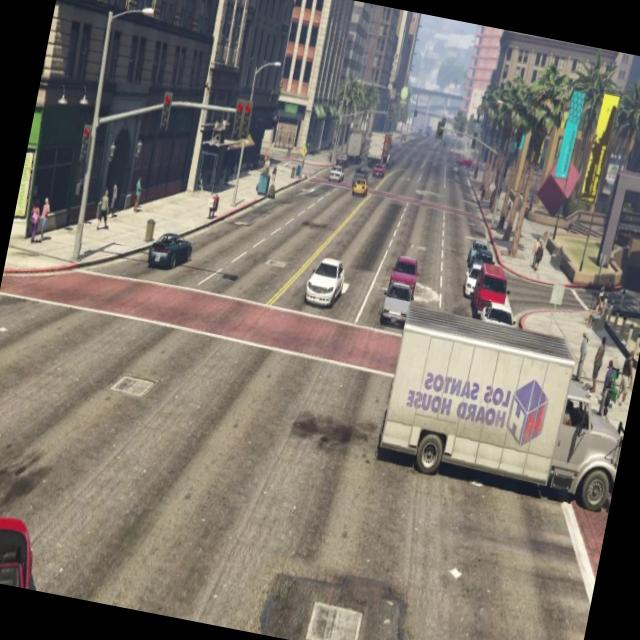Red-Signal: (225, 90, 258, 152), (153, 84, 180, 138), (74, 118, 96, 170)
